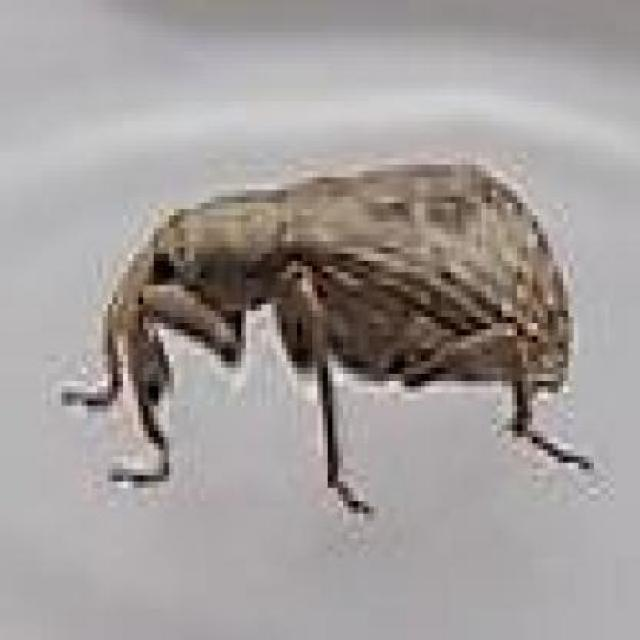rice-bug: (77, 155, 583, 492)
